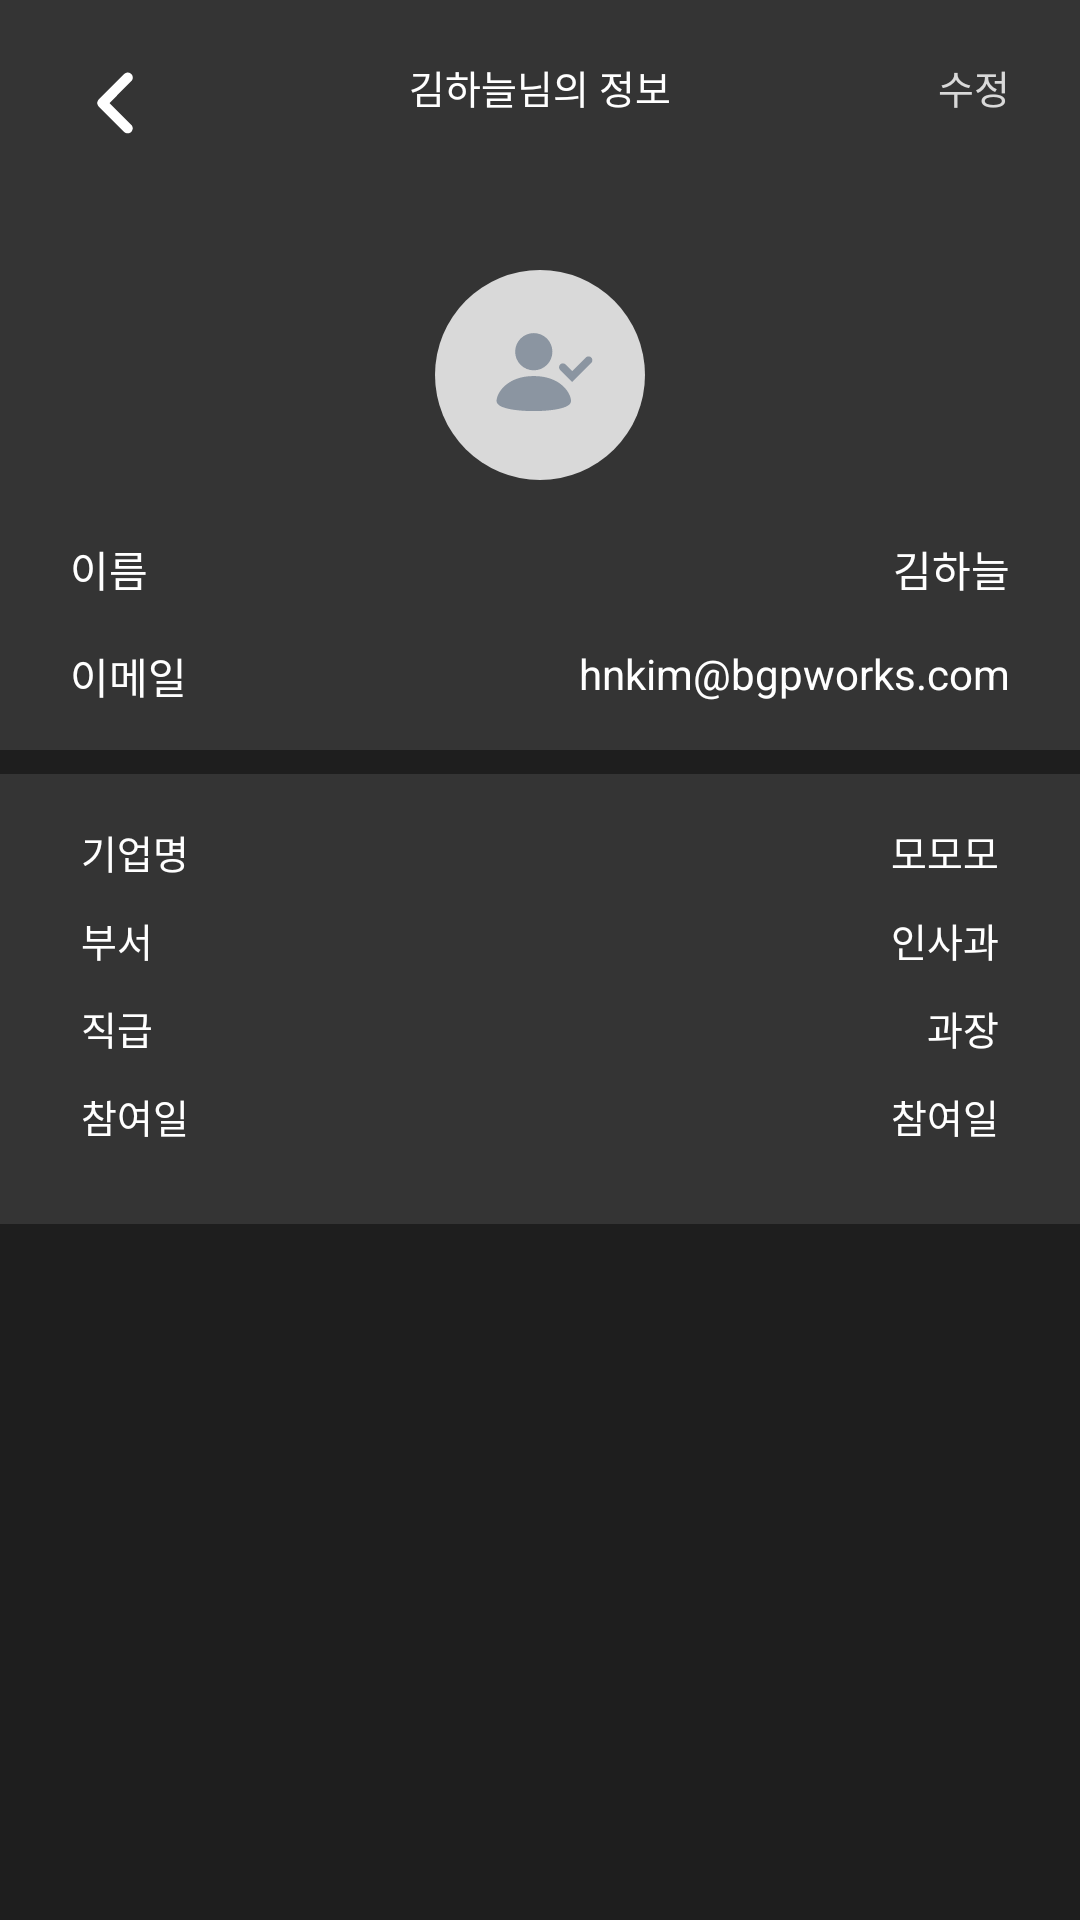

Icon click points for this 1080w x 1920h phone screenshot, format point (x, y):
back: point (115, 103)
profile: point (540, 375)
